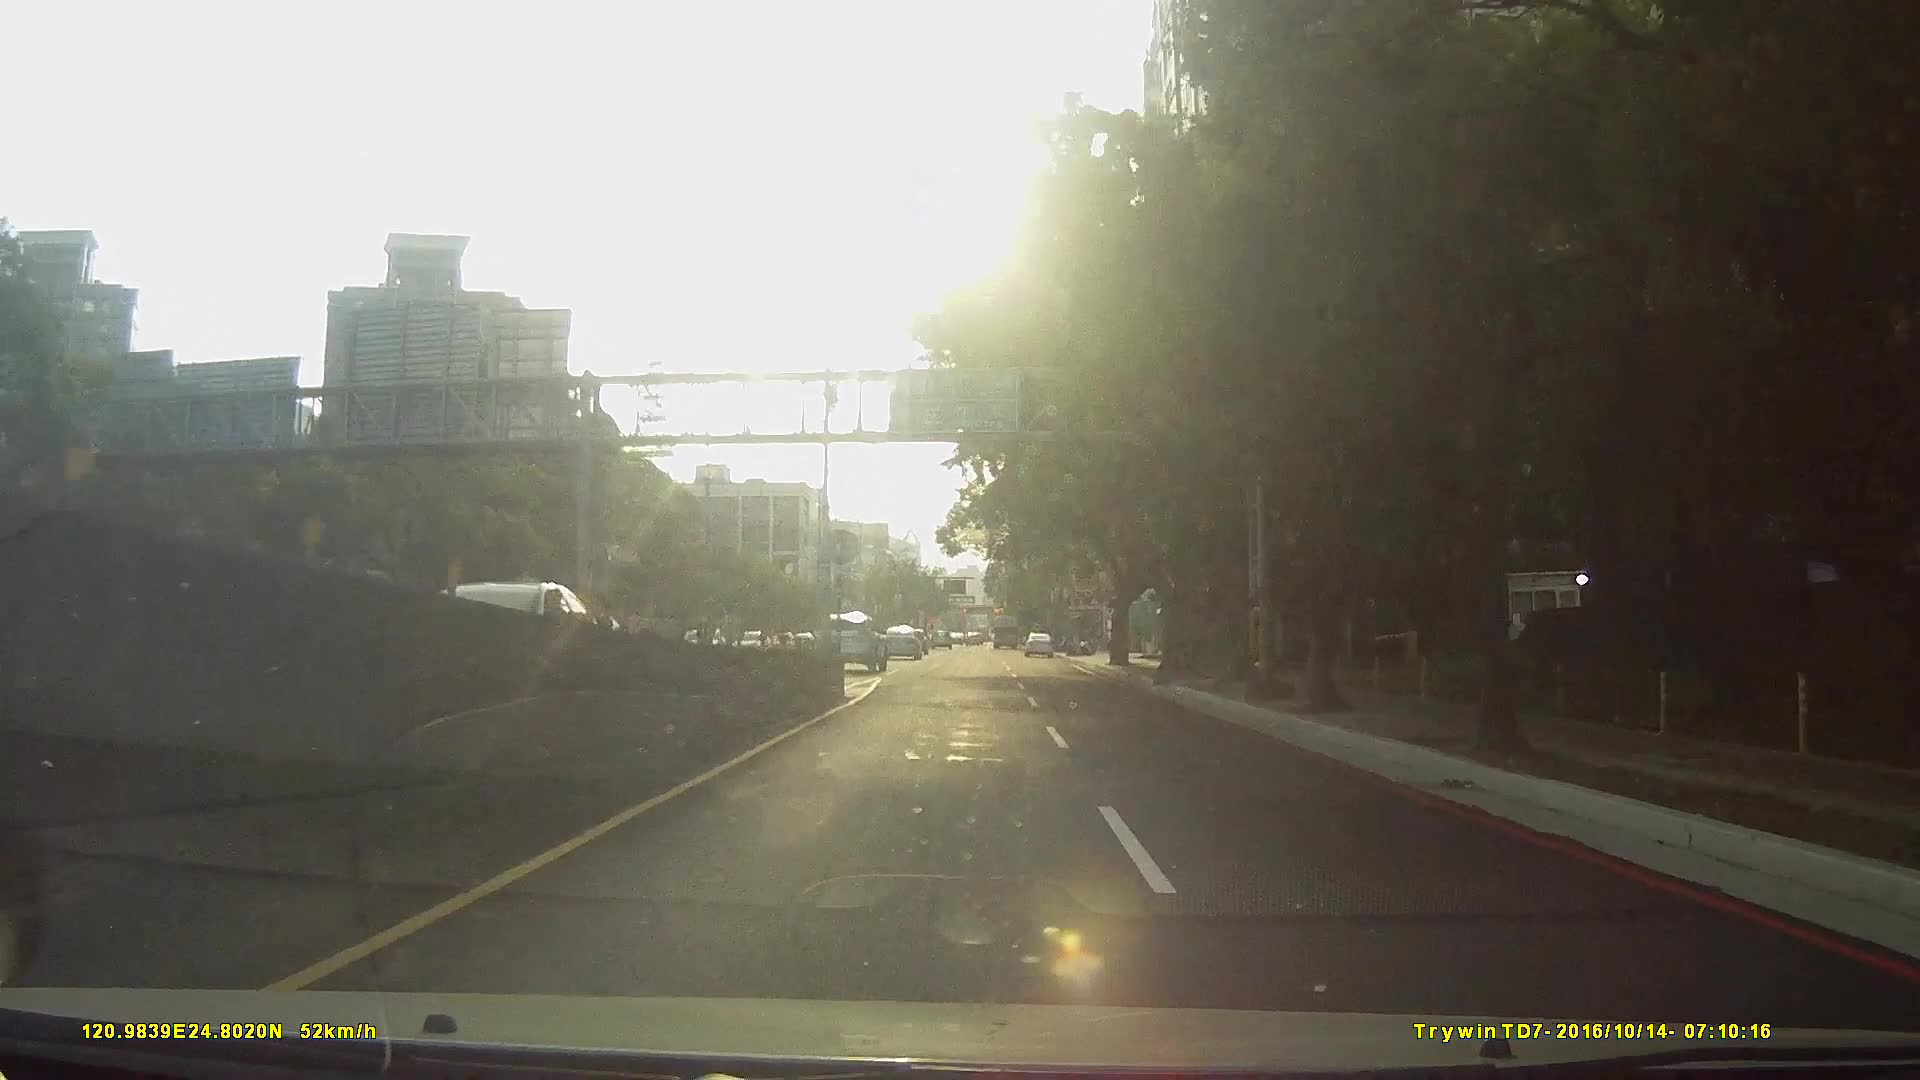vehicle: (819, 611, 887, 673), (880, 626, 924, 663), (988, 613, 1021, 649), (1022, 632, 1055, 658)
